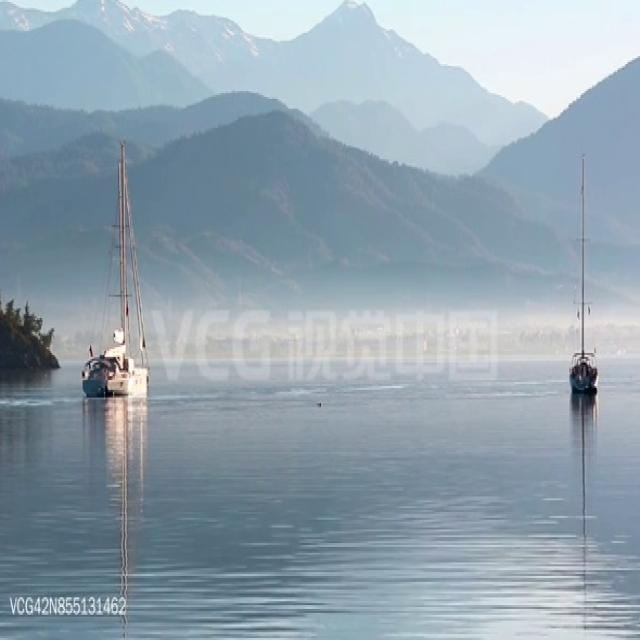sailboat: (75, 138, 147, 402), (565, 145, 600, 398)
